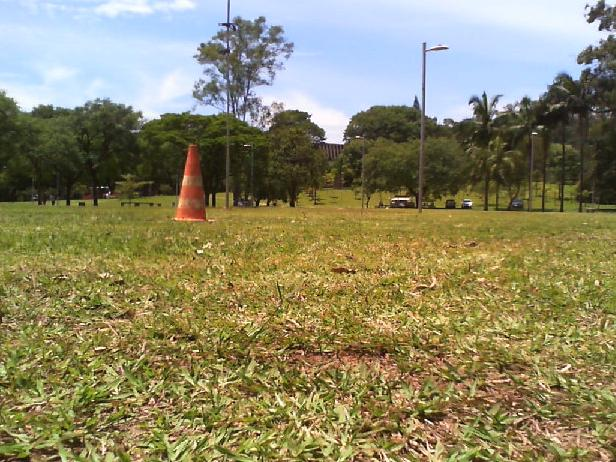0 cone: (173, 144, 209, 222)
